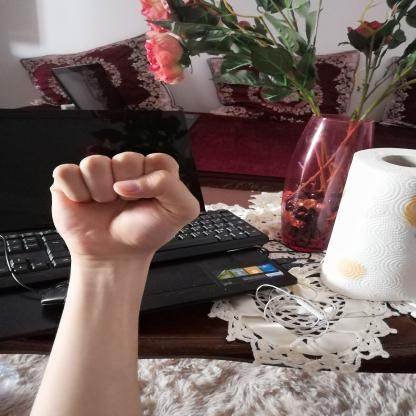SAD: (28, 142, 216, 270)
